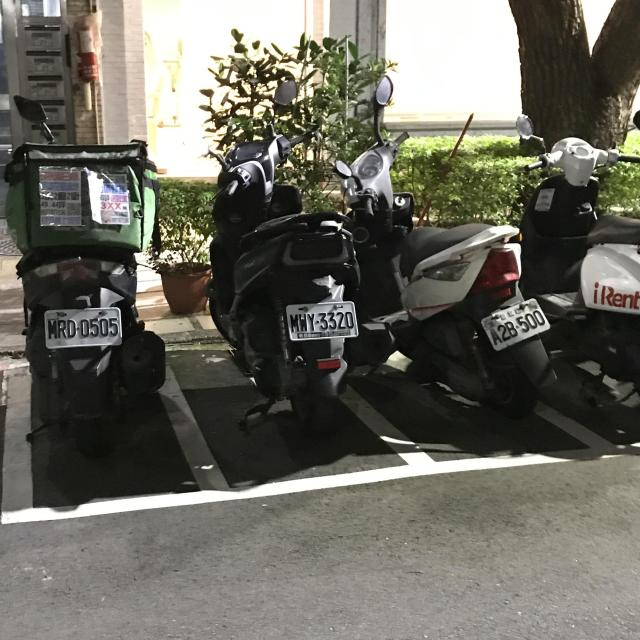W: (476, 294, 554, 352), (42, 304, 125, 349), (282, 298, 360, 342)
